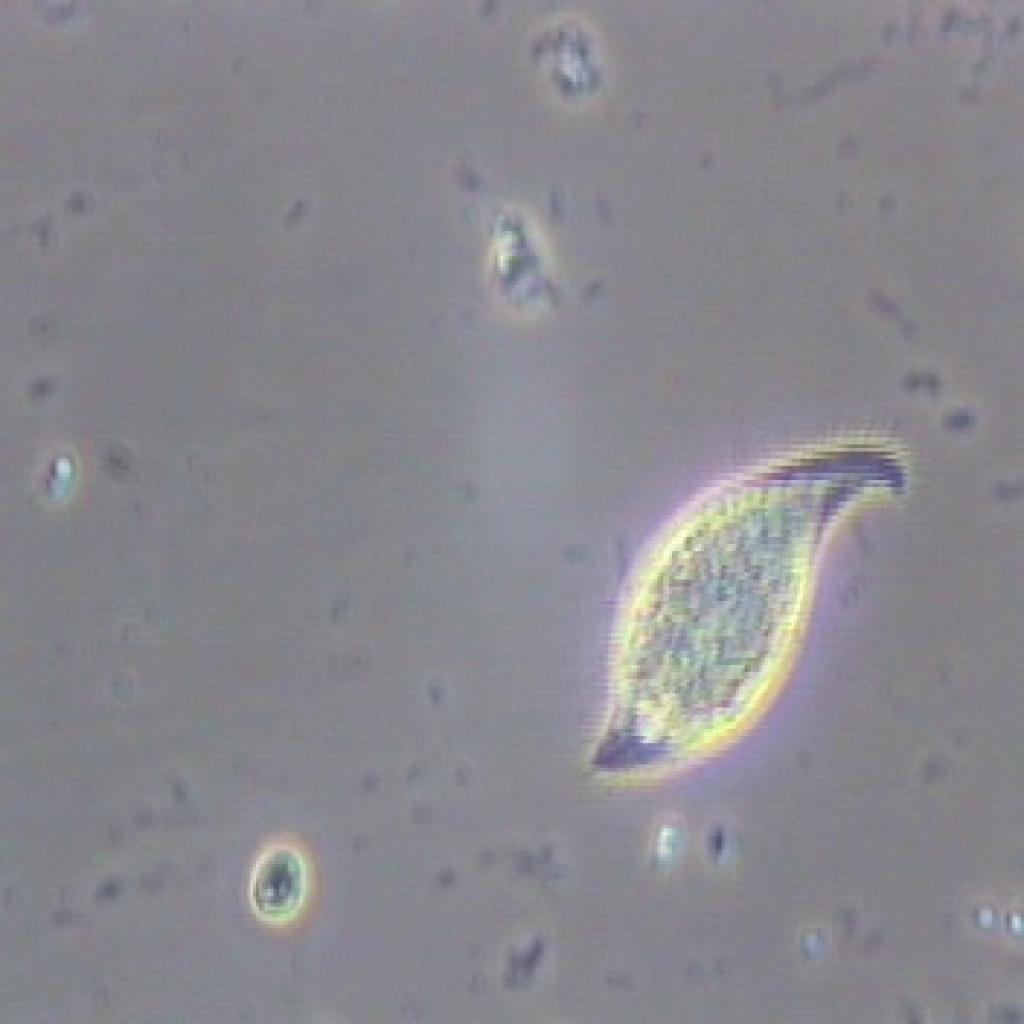Pristina: (580, 390, 912, 820)
